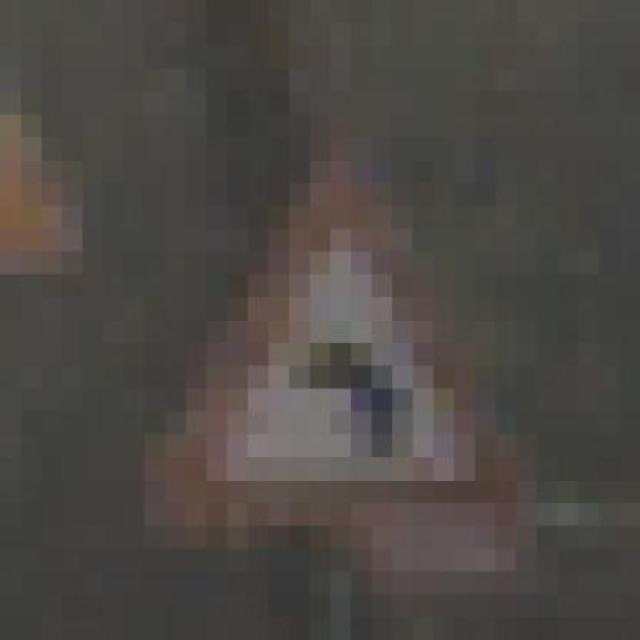Dangerous Left Curve Ahead: (103, 114, 557, 549)
